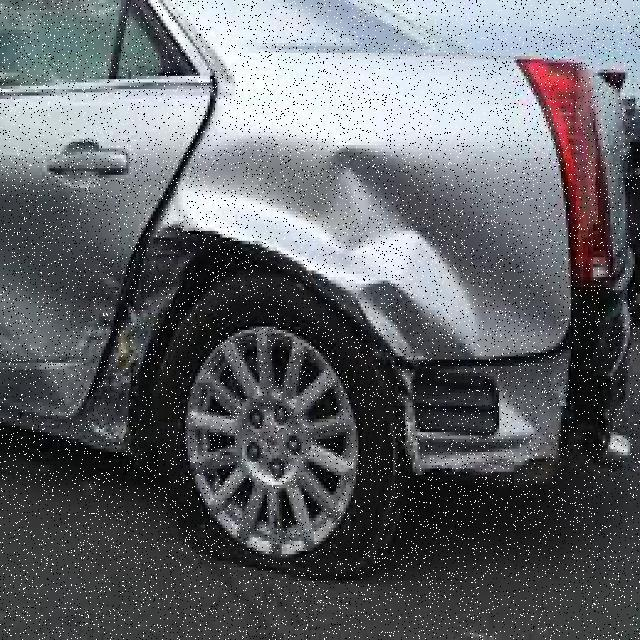doorouter-dent: (0, 79, 121, 409)
quaterpanel-dent: (210, 72, 556, 372), (136, 228, 299, 422)
